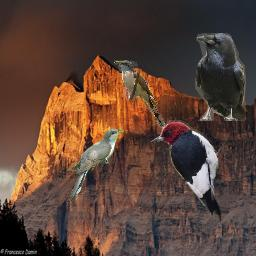Crow: (195, 33, 246, 121)
Cuckoo: (69, 129, 124, 201), (114, 60, 165, 128)
Woodpecker: (146, 120, 228, 222)
